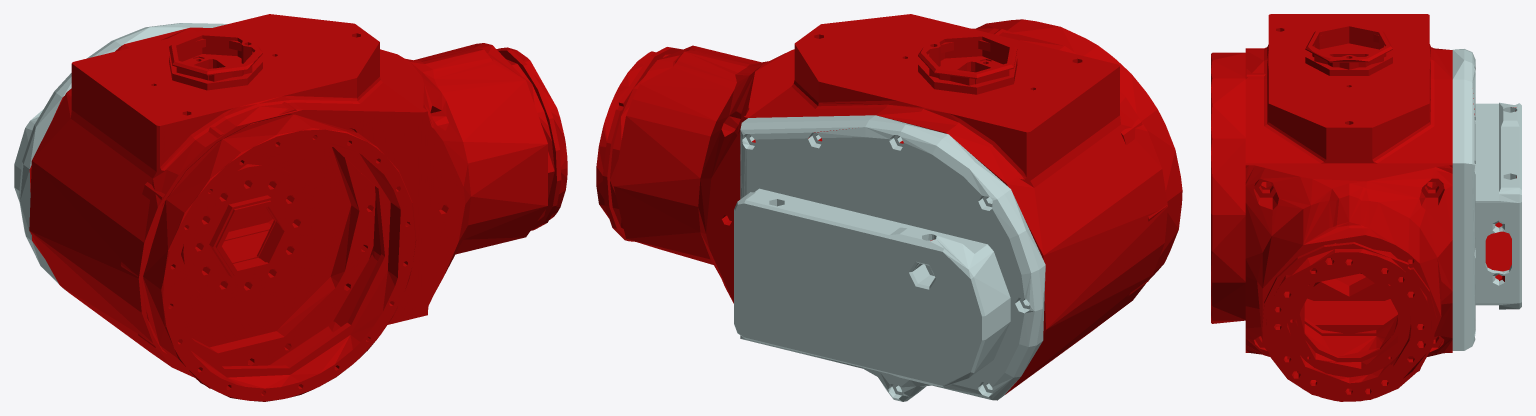
Rendered from arm_link_2.dae.
3 views of the same model, side by side, from view 1: azimuth 30°, elevation 25°; view 2: azimuth 150°, elevation 25°; view 3: azimuth 270°, elevation 25° (orthographic). The views are drawn at different scales.
Visible parts, largest first — view 1: Arm_Link_2; view 2: Arm_Link_2; view 3: Arm_Link_2.
Part boxes in pixels (x1=…): Arm_Link_2: x1=14, y1=14, x2=567, y2=401; Arm_Link_2: x1=596, y1=14, x2=1182, y2=401; Arm_Link_2: x1=1211, y1=14, x2=1521, y2=401.
Size of the model in its own units: 203 by 135 by 131.
